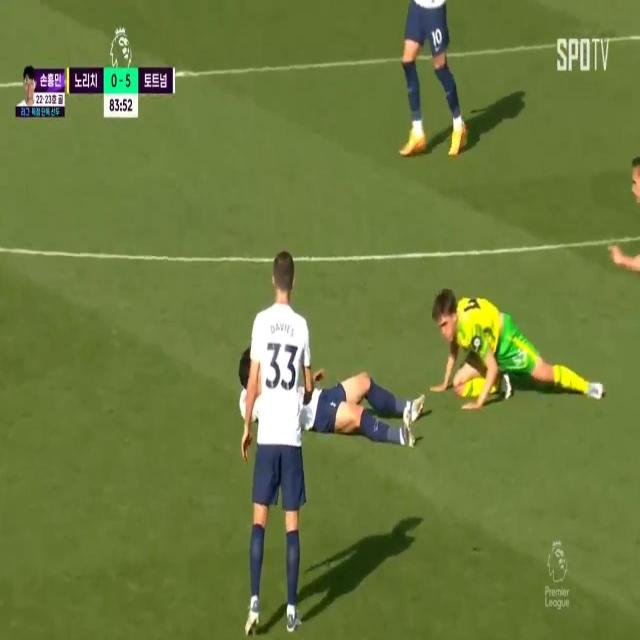player: (238, 246, 318, 636), (427, 280, 608, 419), (308, 348, 420, 470), (397, 0, 468, 164)
